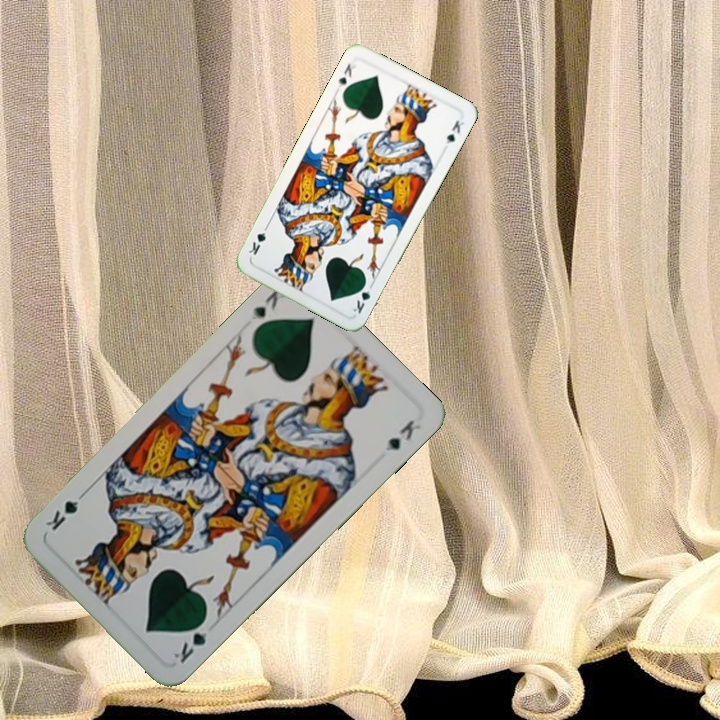GK: (169, 614, 210, 666), (246, 284, 282, 324), (348, 277, 376, 316), (334, 59, 358, 90)
